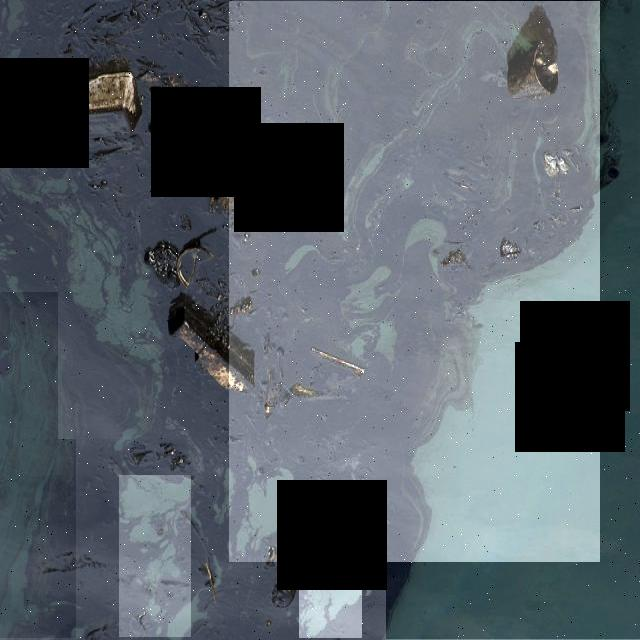oil spill: (230, 2, 600, 562), (386, 0, 640, 639), (0, 292, 76, 638), (58, 201, 161, 439), (119, 475, 191, 637), (300, 522, 362, 638), (236, 472, 293, 558)
